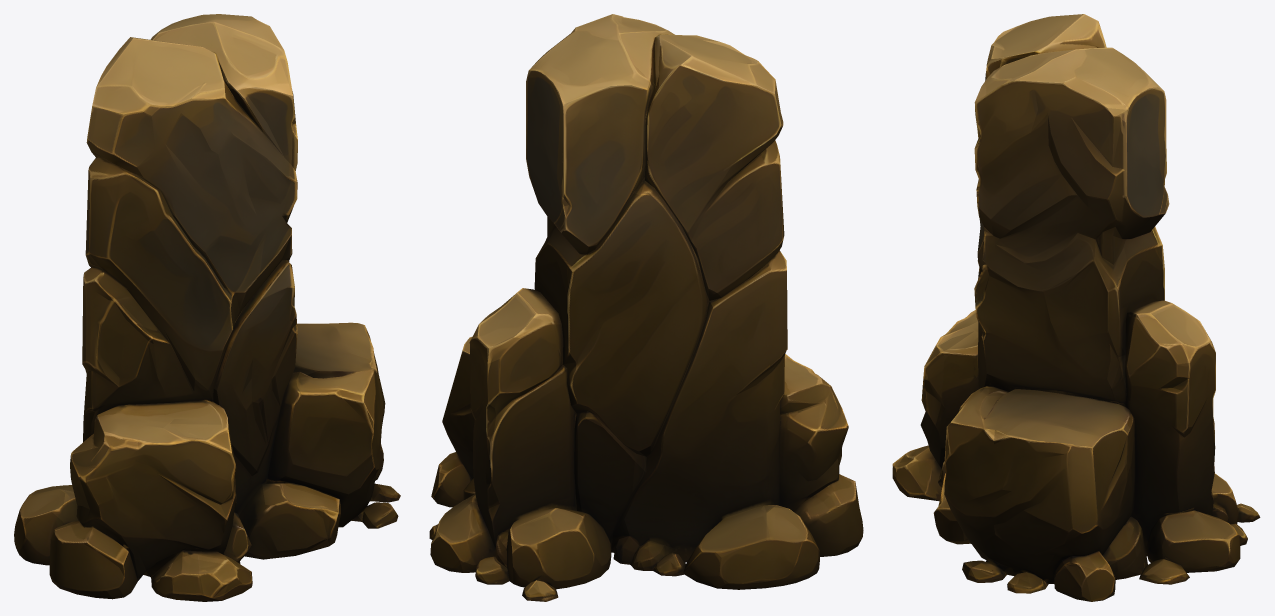
The model's file is SM_Ore20.fbx.
The picture shows the model from 3 angles, left to right: view 1: azimuth 30°, elevation 25°; view 2: azimuth 150°, elevation 25°; view 3: azimuth 270°, elevation 25°; orthographic projection. The views are drawn at different scales.
Visible parts, largest first — view 1: Ore20; view 2: Ore20; view 3: Ore20.
Boxes of the visible parts, <box> form: Ore20: <box>14,14,400,601</box>; Ore20: <box>429,14,863,601</box>; Ore20: <box>892,14,1260,601</box>.
Bounding box in the file's own units: 133 × 167 × 118.
1 material, 1 textured.
